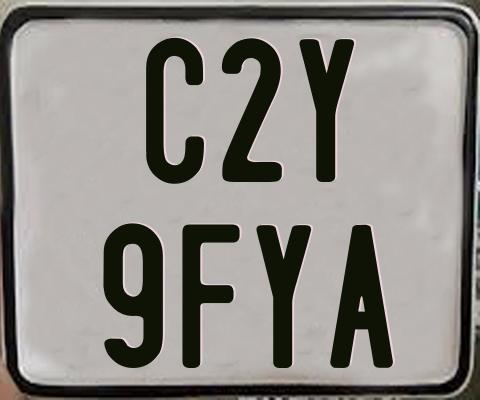2: (222, 35, 288, 183)
9: (101, 221, 161, 371)
A: (330, 222, 398, 370)
C: (143, 35, 205, 184)
F: (180, 224, 238, 371)
Y: (298, 39, 356, 185), (256, 224, 312, 373)
